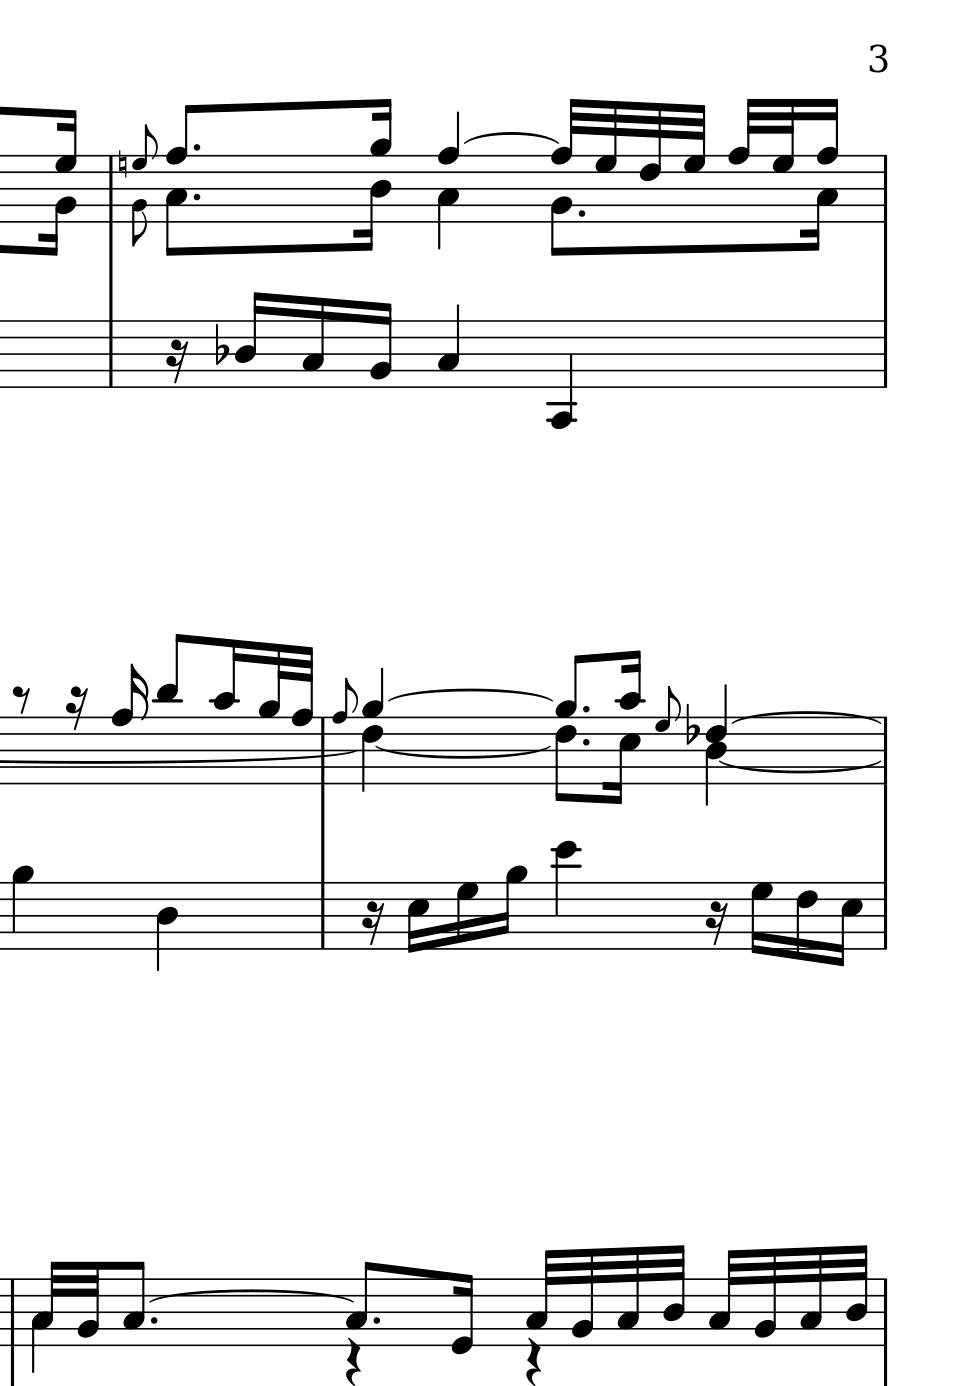16_0: (448, 1271, 476, 1357)
16_10: (210, 639, 241, 787)
16_2: (367, 300, 393, 390)
16_2_7: (38, 107, 78, 257)
16_3: (299, 296, 326, 390)
16_4: (233, 290, 267, 389)
16_4_9: (353, 97, 395, 255)
16_5: (832, 880, 863, 968), (404, 880, 428, 955)
16_5_10: (603, 649, 645, 807)
16_6: (794, 879, 818, 964)
16_7: (748, 880, 772, 958), (453, 879, 477, 952)
16_8: (110, 663, 147, 787)
16_9: (495, 864, 526, 952)
3: (867, 42, 889, 75)
32_2: (568, 1246, 595, 1347), (753, 1247, 778, 1347), (76, 1258, 100, 1348)
32_3: (522, 1249, 555, 1347), (707, 1247, 737, 1349), (615, 1245, 641, 1347), (799, 1245, 823, 1347)
32_4: (661, 1243, 687, 1348), (844, 1242, 870, 1347)
32_6: (638, 101, 664, 222)
32_7: (593, 98, 619, 223), (682, 99, 707, 221), (771, 97, 795, 220)
32_8: (727, 97, 758, 222), (291, 647, 315, 786)
32_9: (259, 641, 285, 786)
4_-4: (546, 317, 576, 429)
4_12: (549, 840, 581, 952)
4_3: (436, 302, 461, 389)
4_3_8: (437, 111, 461, 249)
4_4: (154, 881, 179, 973)
4_4_6: (703, 684, 728, 806)
4_6_9: (360, 664, 385, 792)
4_9: (10, 862, 33, 952)
8_11: (154, 635, 187, 787)
8_3: (344, 1260, 377, 1348), (121, 1259, 146, 1347)
8_3_8: (165, 103, 197, 258)
8_6_9: (554, 654, 587, 805)
Appoggiature: (331, 676, 358, 782), (655, 686, 684, 785)
Flat: (210, 321, 228, 366), (683, 702, 699, 748)
Natural: (116, 150, 128, 180)
Rests16: (163, 337, 190, 386), (360, 899, 385, 947), (64, 684, 88, 732), (704, 900, 728, 947)
Rests4: (342, 1337, 363, 1386), (523, 1337, 544, 1386)
Rests8: (10, 684, 31, 716)
Single_barline: (314, 717, 331, 785), (876, 882, 893, 950), (876, 1278, 893, 1346), (876, 155, 893, 222), (876, 321, 893, 387), (314, 882, 331, 948), (877, 717, 893, 785), (102, 320, 118, 387), (102, 156, 117, 223), (5, 1279, 20, 1346)
Slur: (148, 1288, 357, 1302), (374, 745, 550, 760), (731, 709, 883, 725), (386, 689, 557, 703), (719, 761, 885, 774), (465, 129, 557, 145)
dot: (370, 1313, 383, 1328), (579, 736, 593, 749), (190, 190, 203, 203), (574, 207, 587, 220), (189, 142, 203, 154), (579, 704, 592, 715), (148, 1314, 158, 1327)
